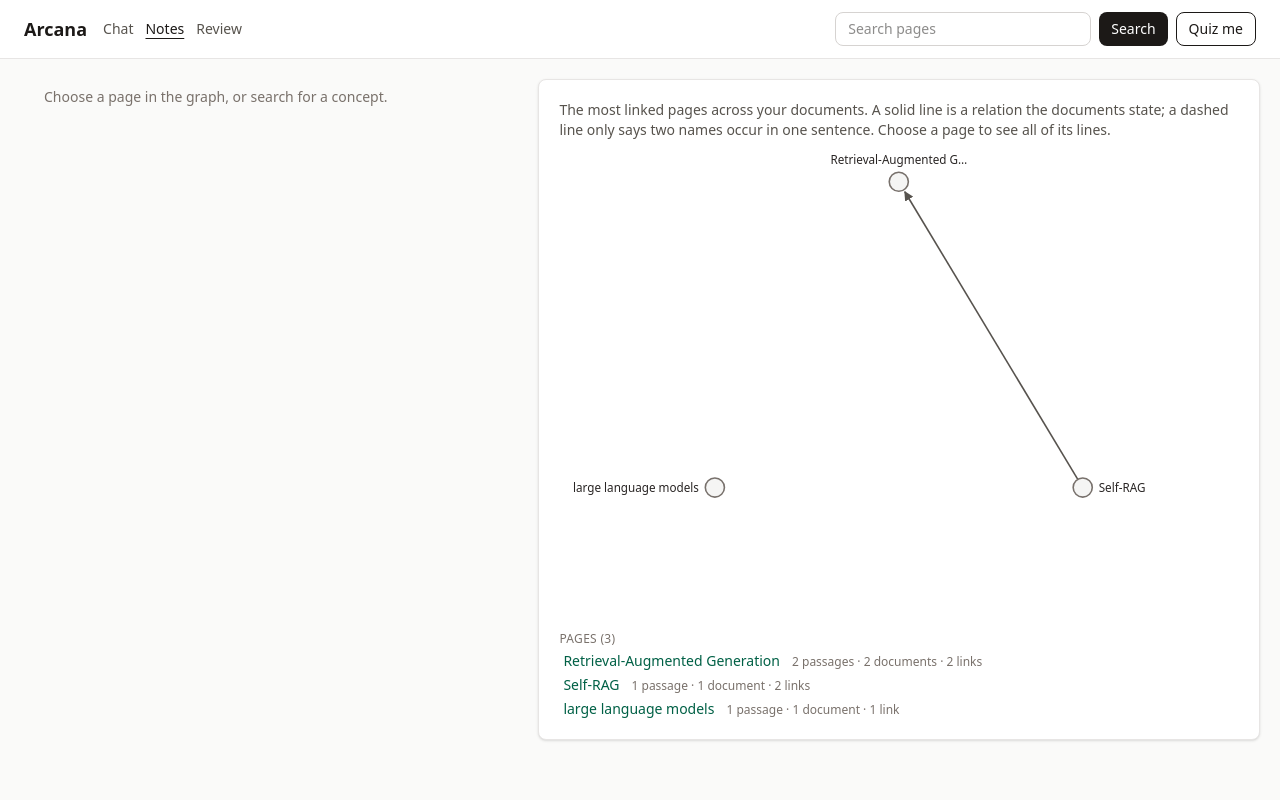
Test case: NotesWorkspace: the quiz › 'Quiz me' asks the server for a quiz and shows it beside the graph
expect the icon named "Page graph" is shown: met, box x1=559 y1=152 x2=1239 y2=619
Click the button "Quiz me" at (1216, 29), box x1=1176 y1=12 x2=1256 y2=46
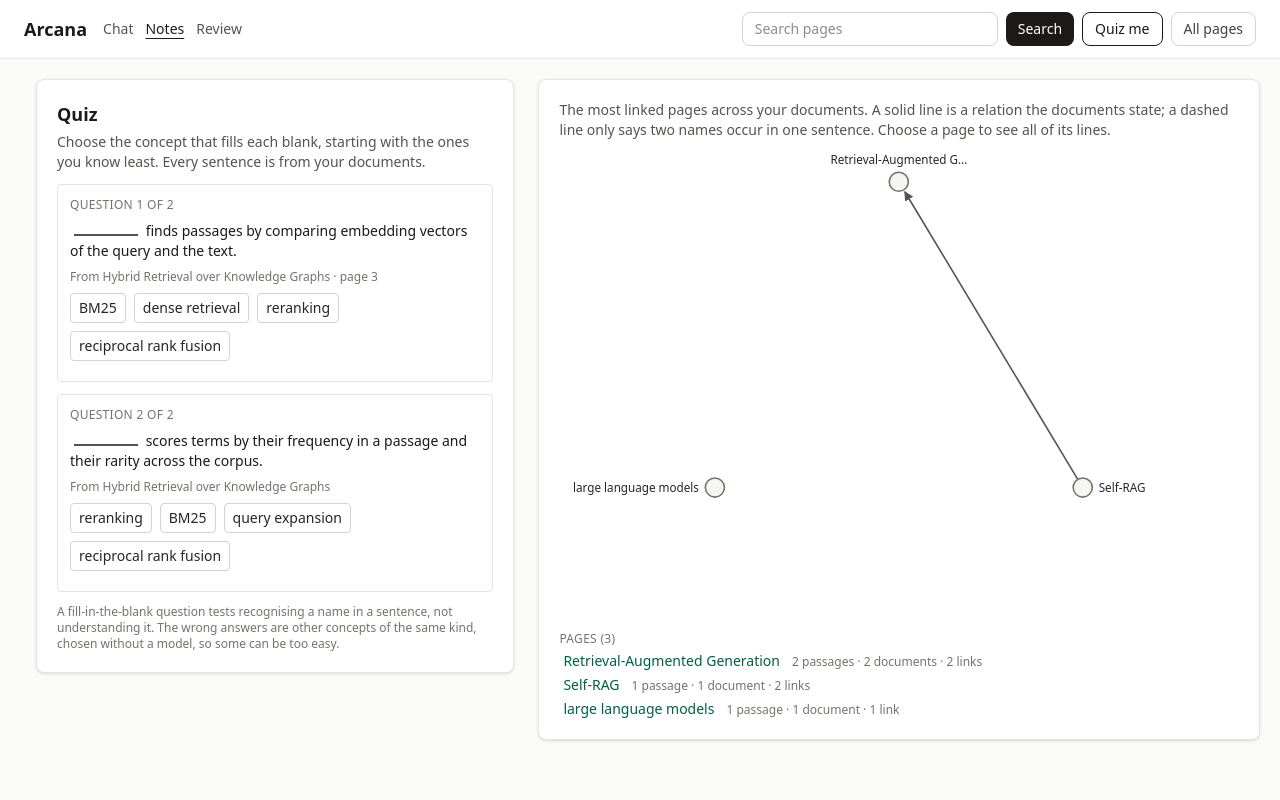
expect the icon named "Page graph" is shown: met, box x1=559 y1=152 x2=1239 y2=619
expect the element named "Quiz questions" is shown: met, box x1=57 y1=100 x2=493 y2=652
expect the number of buttons "dense retrieval" is 1: met, box x1=134 y1=293 x2=249 y2=323
